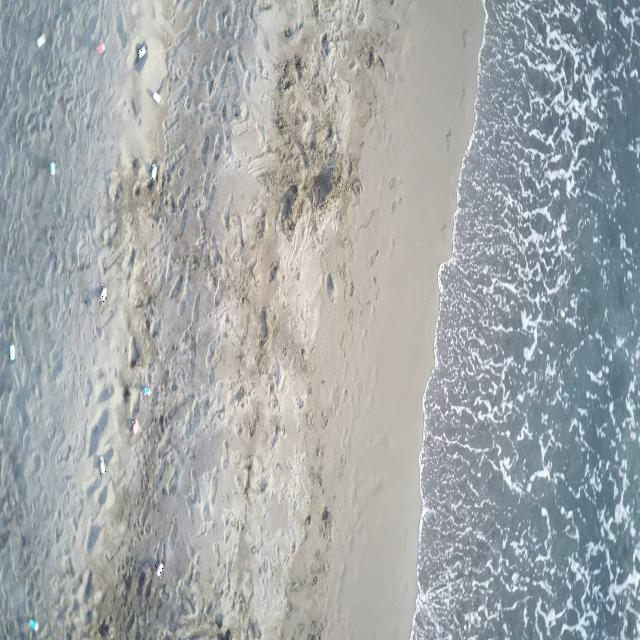tin-and-aluminum-cans: (154, 560, 163, 578), (8, 343, 16, 363), (37, 32, 46, 49), (28, 618, 38, 633), (99, 455, 106, 476), (132, 418, 139, 438), (151, 162, 158, 182), (138, 44, 147, 59), (100, 286, 107, 303), (152, 91, 161, 104), (96, 42, 105, 55), (142, 386, 151, 397), (50, 161, 55, 177)
